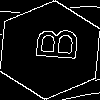B: (25, 25, 79, 62)
